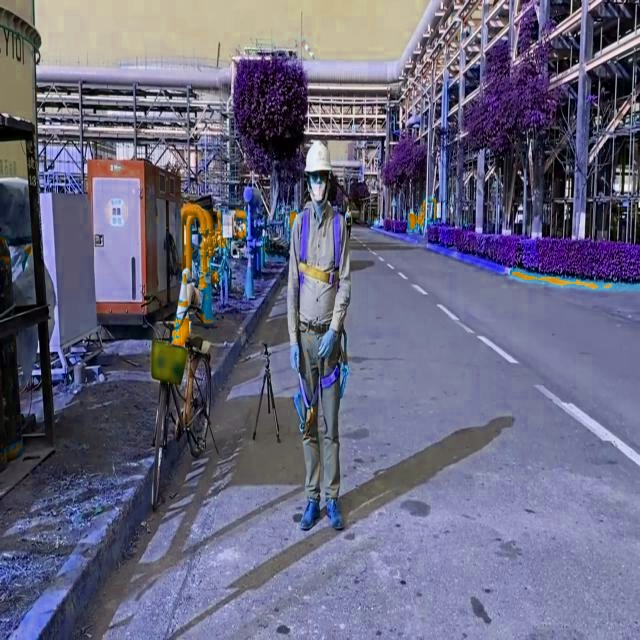safety belt: (290, 224, 357, 396)
